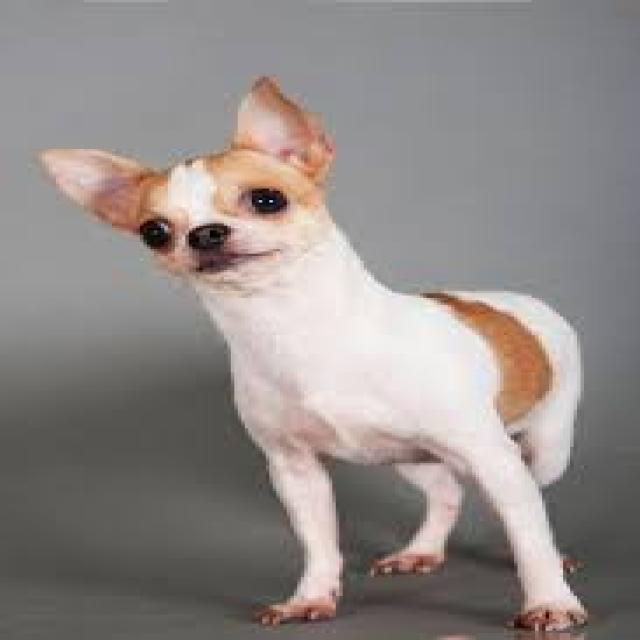dog: (40, 78, 593, 631)
